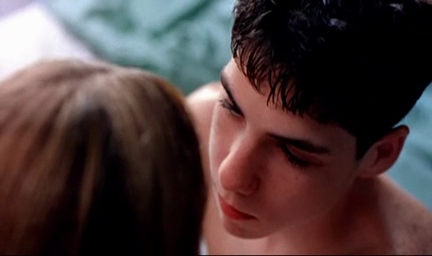cu: (1, 1, 432, 256)
face: (208, 63, 350, 240)
ots: (1, 56, 207, 256)
person: (183, 1, 432, 256)
